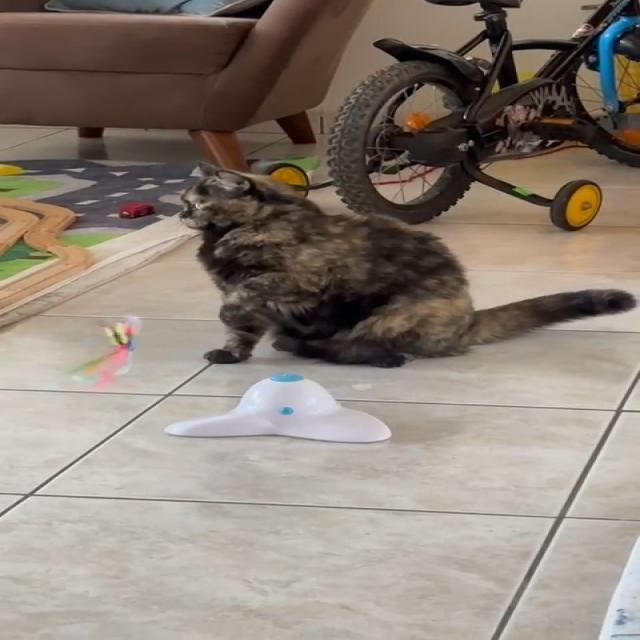authorized: (176, 160, 636, 368)
